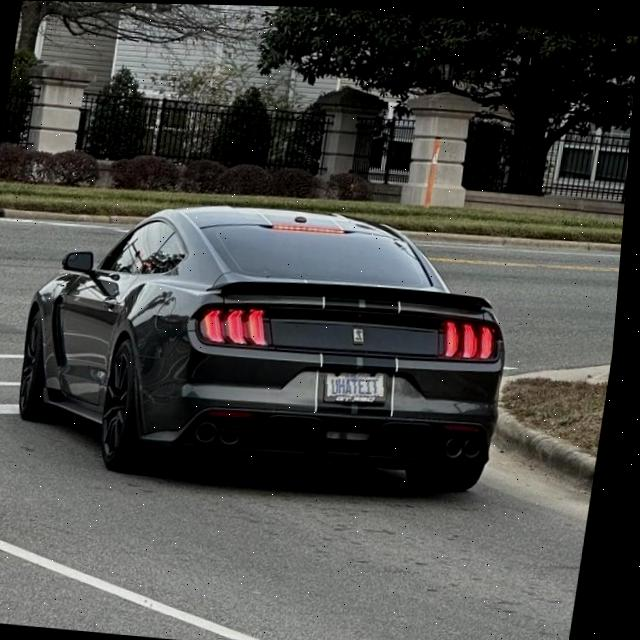LicensePlate: (331, 367, 392, 401)
